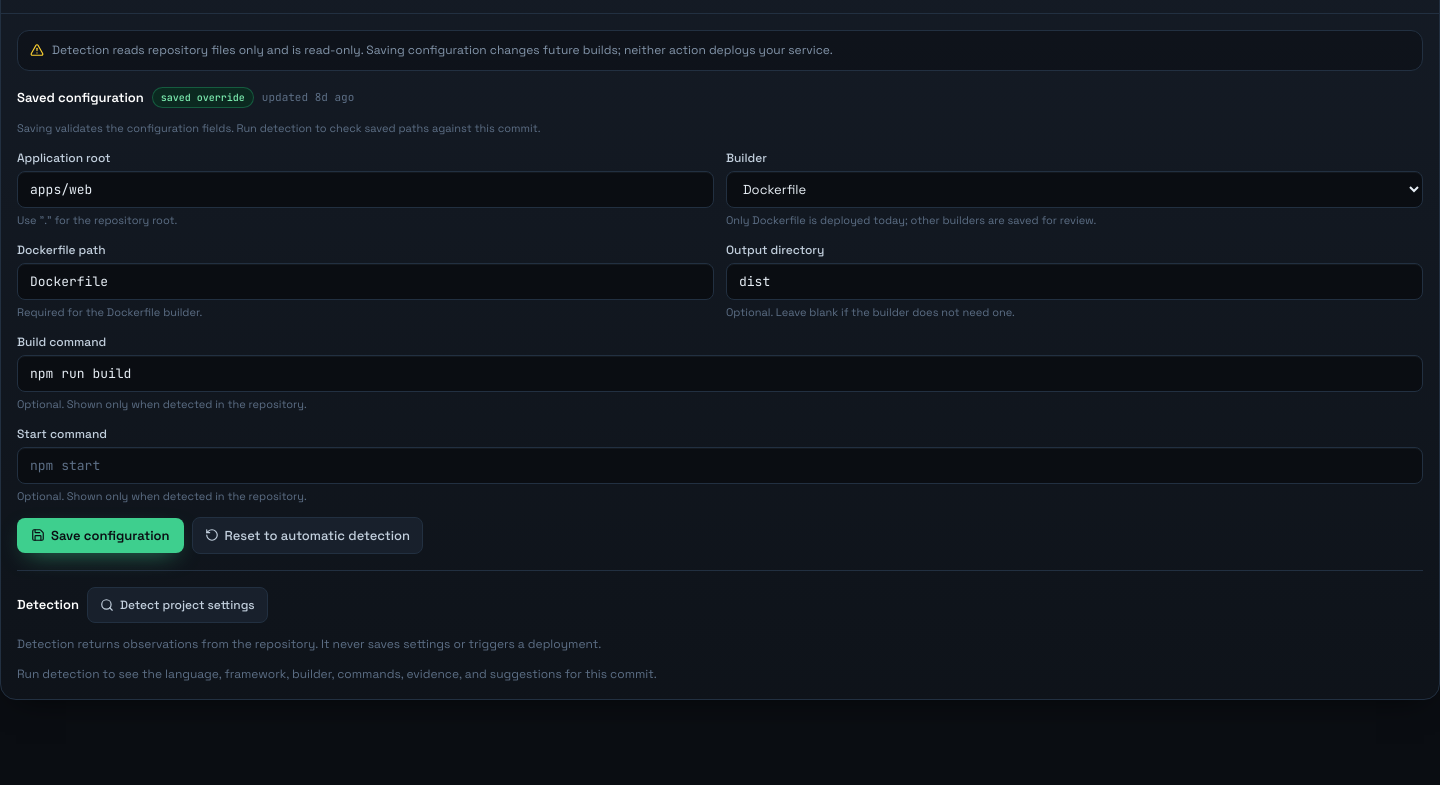
BuildConfigPanel › renders detection facts, confidence, evidence, and suggestions
The width and height of the screenshot is (1440, 785).
Expected: the field showing "apps/web" is shown, [17,170,714,208]
Click the button "Detect project settings" at (177, 605), box [87,587,268,623]
(page scrolled)
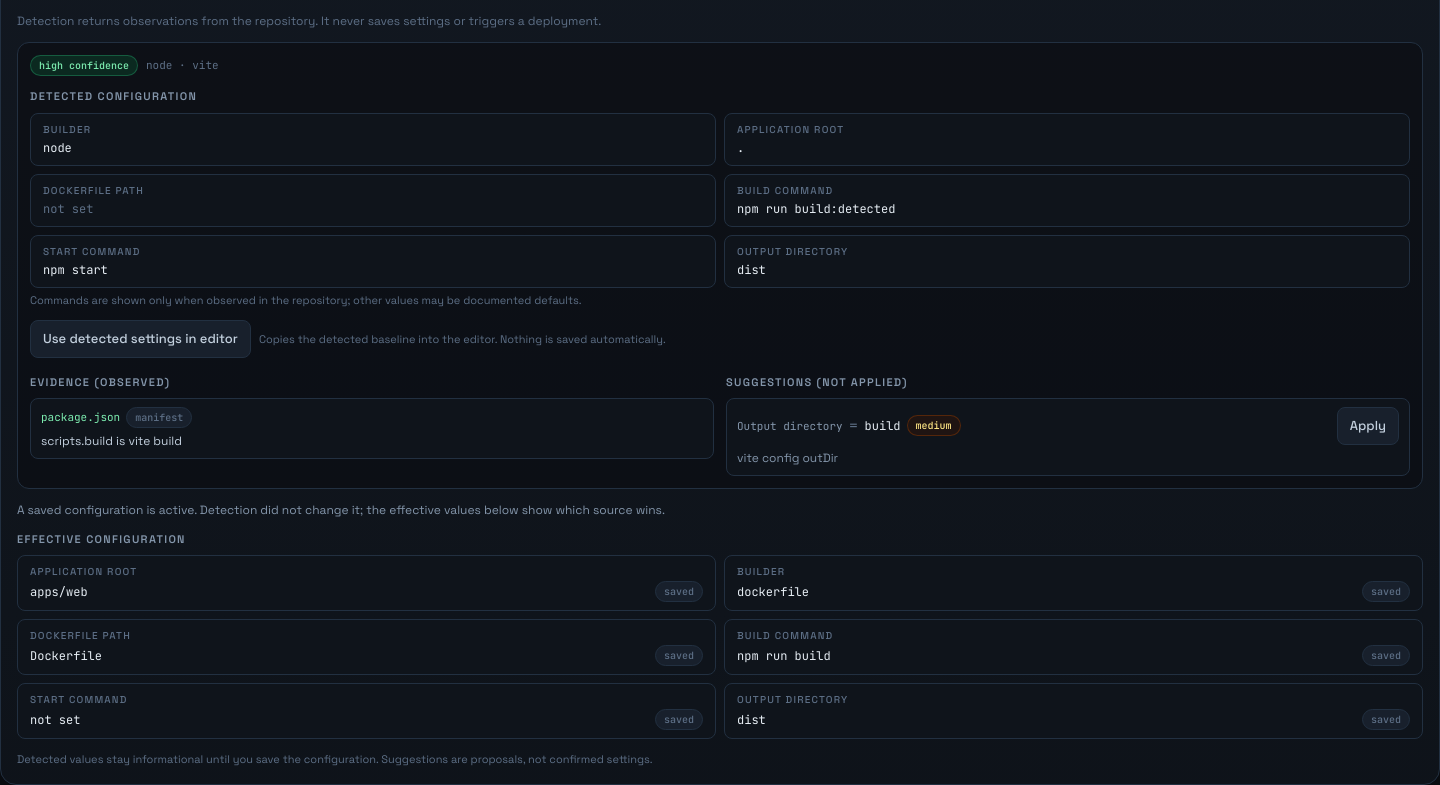
Expected: the text "high confidence" is shown, [30,55,138,76]
Expected: the heading "Detected configuration" is shown, [30,89,197,103]
Expected: the heading "Evidence (observed)" is shown, [30,374,170,388]
